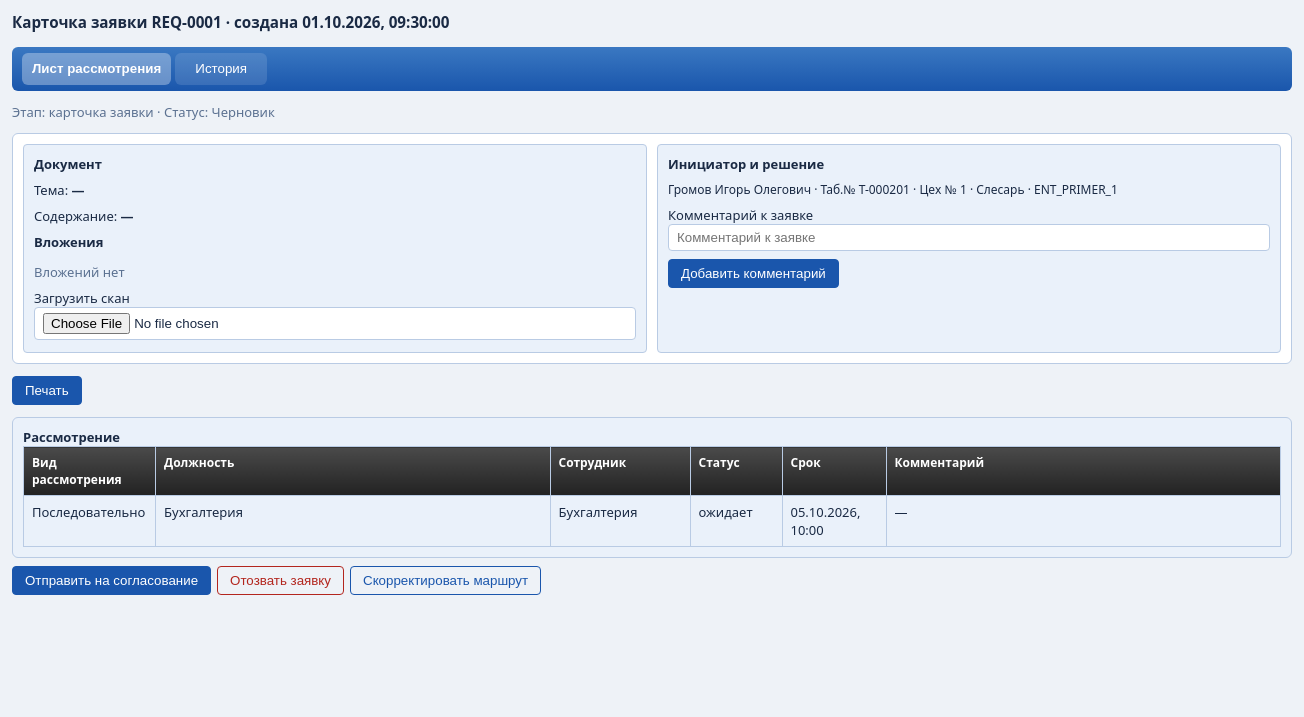
RequestCard › скорректировать маршрут: у шага есть вверх/вниз и удаление
Click the button "Скорректировать маршрут" at (446, 581), box [350,566,541,595]
(page scrolled)
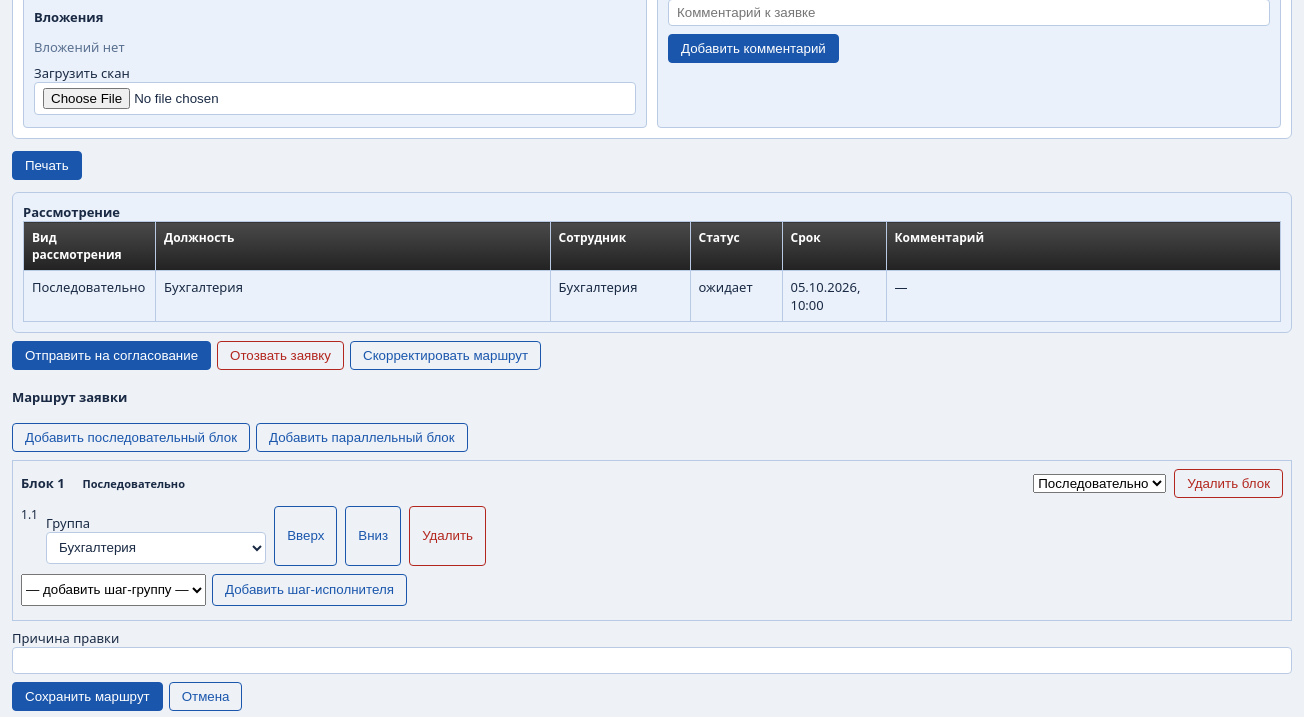
Expected: the button with aria-label "Поднять шаг 1.1" is disabled, [274,506,337,566]
Expected: the button with aria-label "Опустить шаг 1.1" is shown, [345,506,401,566]
Expected: the button with aria-label "Удалить шаг 1.1" is shown, [409,506,486,566]
